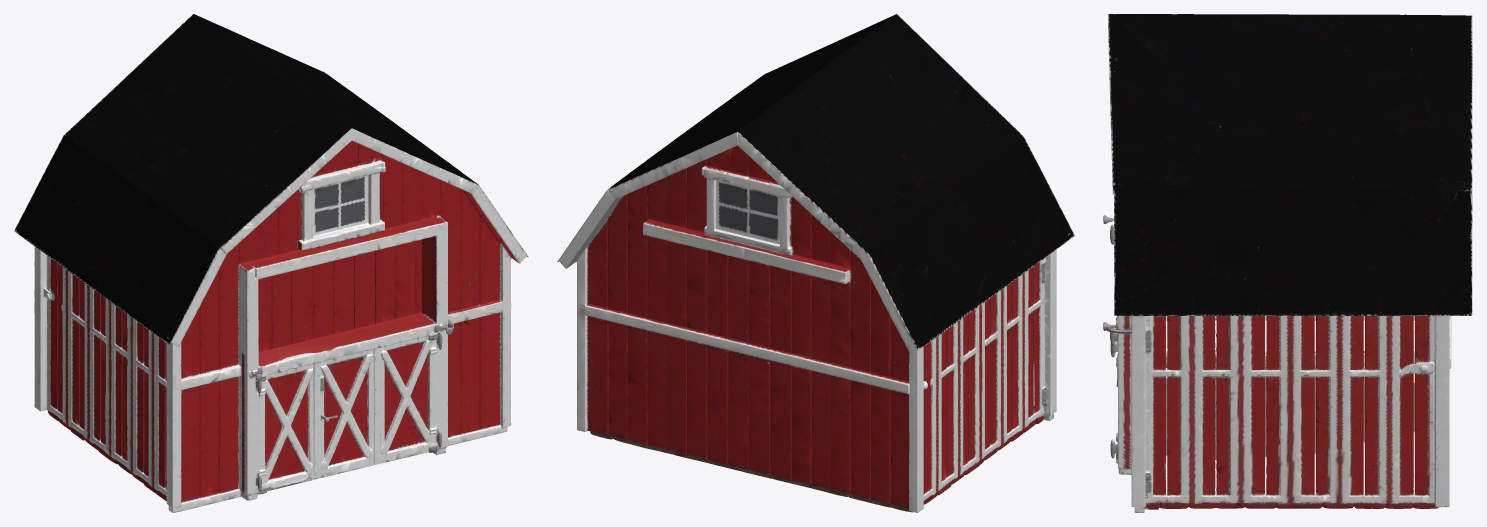
The model's file is Meshy_AI_A_theater_prop_cutout_0823161149_texture (1)-optimized.glb.
The picture shows the model from 3 angles, left to right: view 1: azimuth 30°, elevation 25°; view 2: azimuth 150°, elevation 25°; view 3: azimuth 270°, elevation 25°; orthographic projection. The views are drawn at different scales.
Bounding box in the file's own units: 1.9 × 1.78 × 1.47.
Materials: 1 (1 with a texture image).
